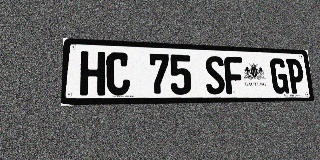5: (170, 54, 192, 95)
7: (148, 54, 170, 95)
C: (106, 52, 130, 95)
F: (224, 56, 245, 94)
G: (269, 58, 289, 94)
H: (80, 51, 105, 96)
P: (286, 59, 305, 94)
S: (204, 56, 226, 94)
